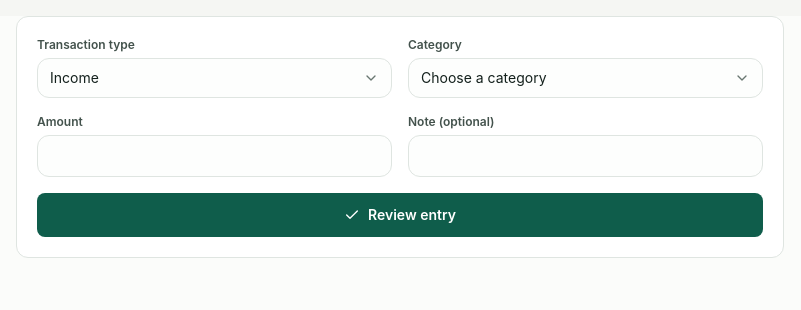
Test: standard transaction entry › rejects invalid amounts without opening the review step
The width and height of the screenshot is (801, 310).
Click the dropdown labelled "category": [484, 77] box 408,58 -> 763,98
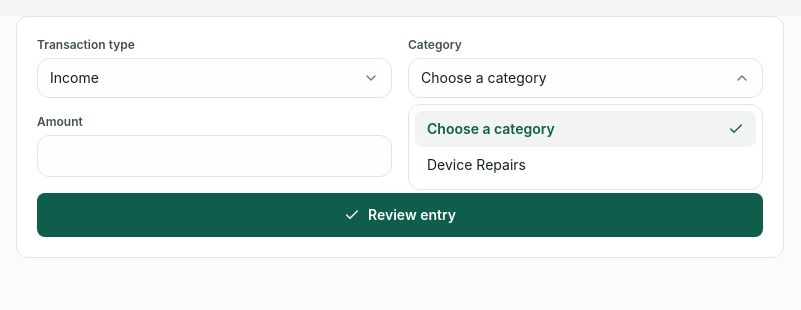
Click the option "Device Repairs": [476, 164] box 415,147 -> 756,183
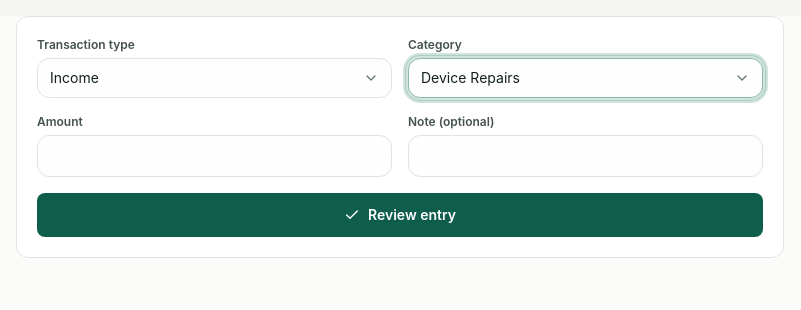
In the field labelled "Amount": [214, 156] box 37,135 -> 392,177, type "12abc"
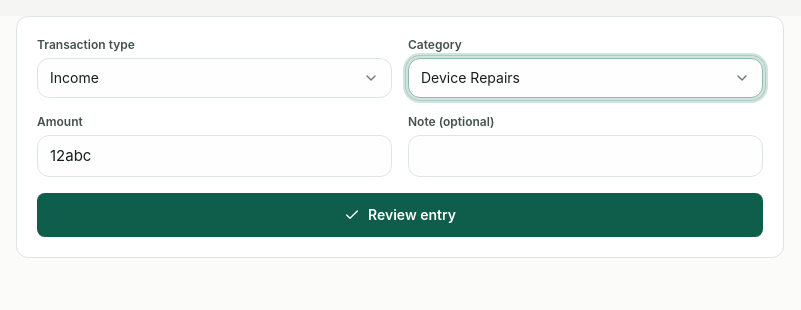
Click the button "Review entry": [400, 215] box 37,193 -> 763,237
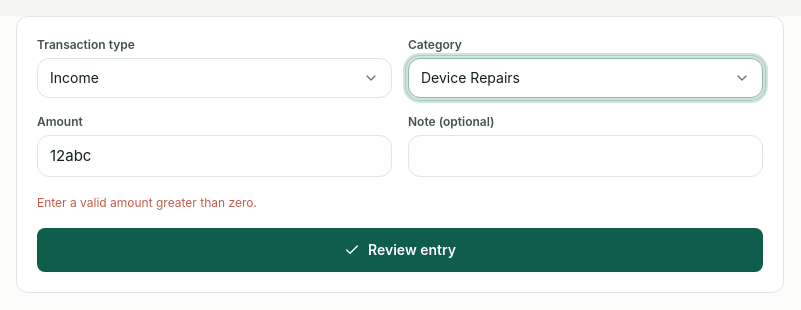
Now the message shows "Enter a valid amount", box 37,195 -> 257,210
